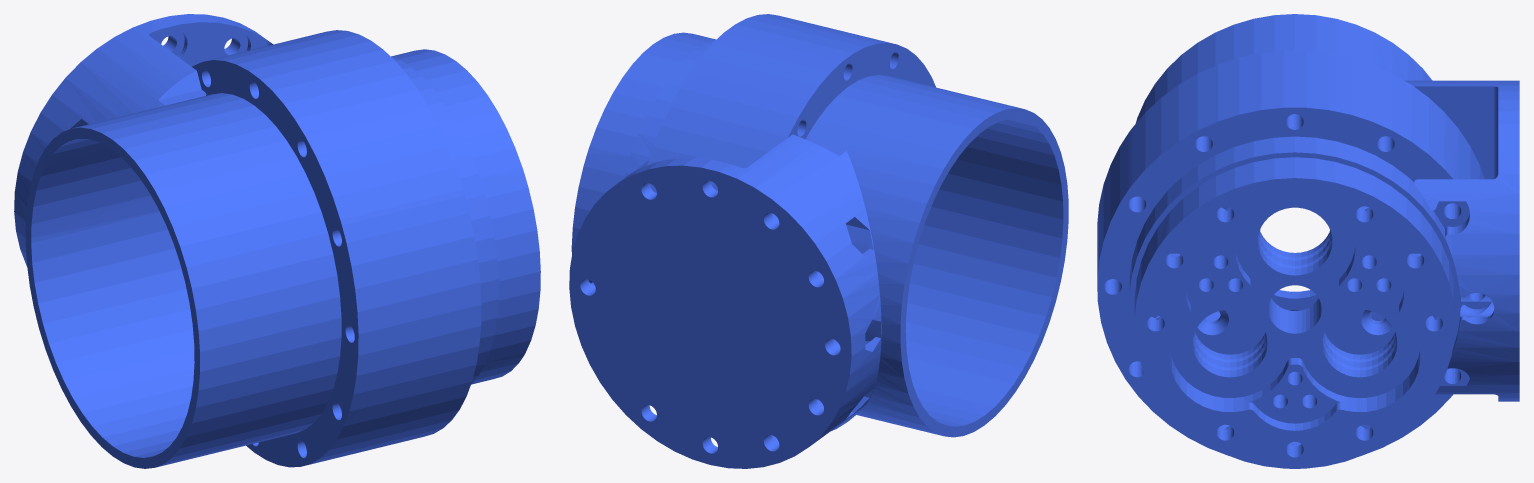
3 views of the same model, side by side, from view 1: azimuth 30°, elevation 25°; view 2: azimuth 150°, elevation 25°; view 3: azimuth 270°, elevation 25° (orthographic). The views are drawn at different scales.
Parts seen in each view (by area): view 1: link5; view 2: link5; view 3: link5.
Boxes of the visible parts, box(x1,y1,x2,y2) form: link5: box(14, 14, 540, 468); link5: box(569, 14, 1068, 468); link5: box(1097, 14, 1519, 468).
Size of the model in its own units: 0.0704 by 0.0739 by 0.079.
Materials: 1 (1 with a texture image).
